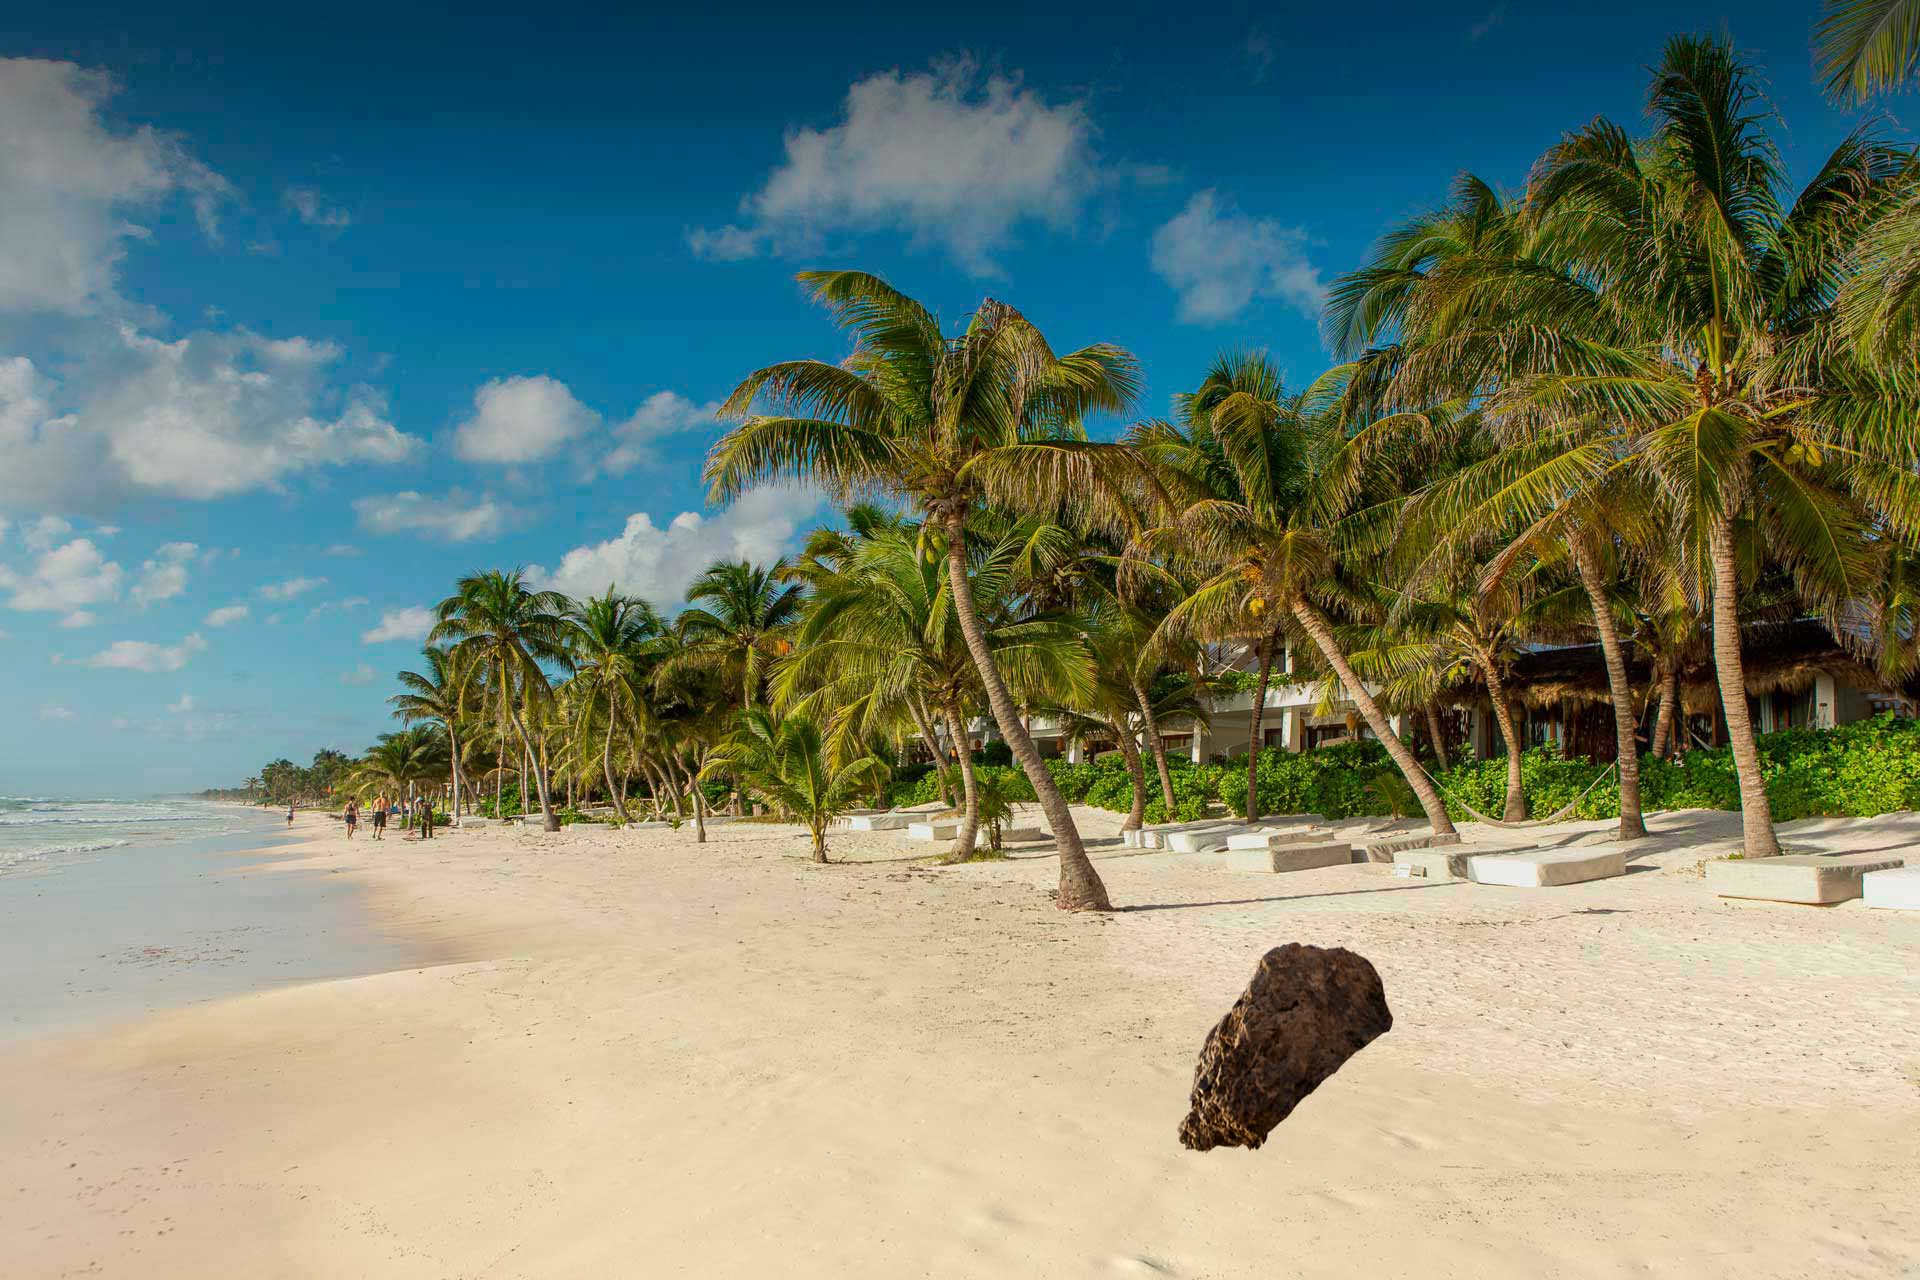Rocks: (1163, 911, 1400, 1181)
